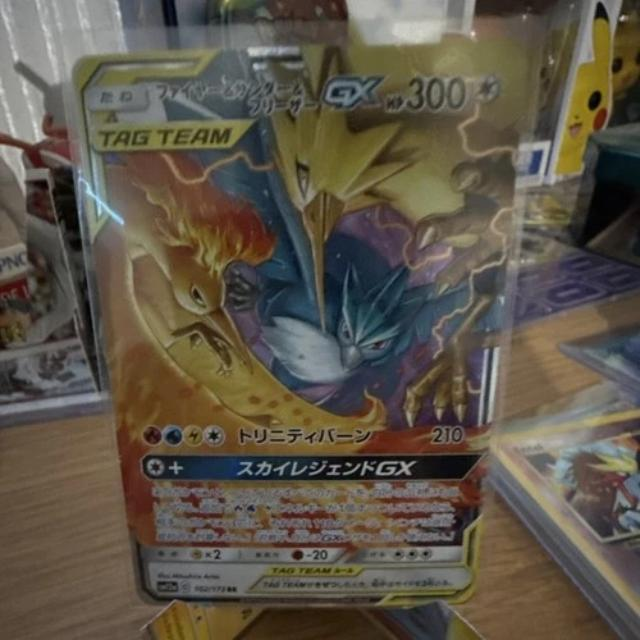Card: (66, 35, 538, 612)
Name: (148, 65, 402, 117)
